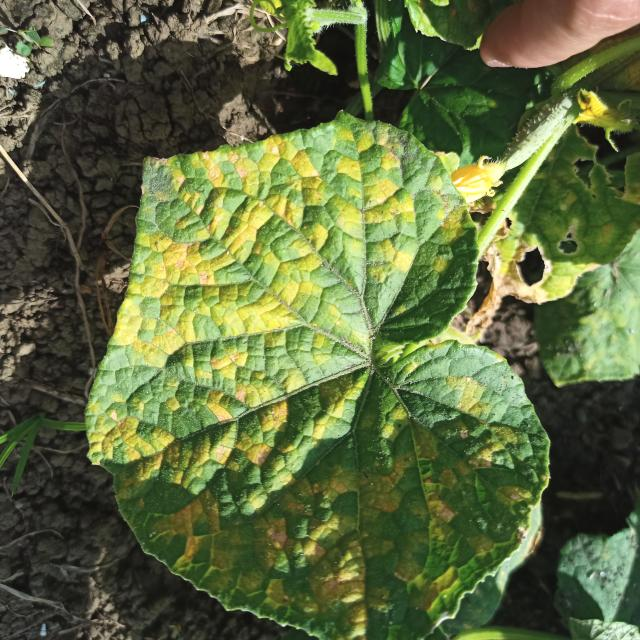disease_cucumber: (96, 129, 536, 627)
